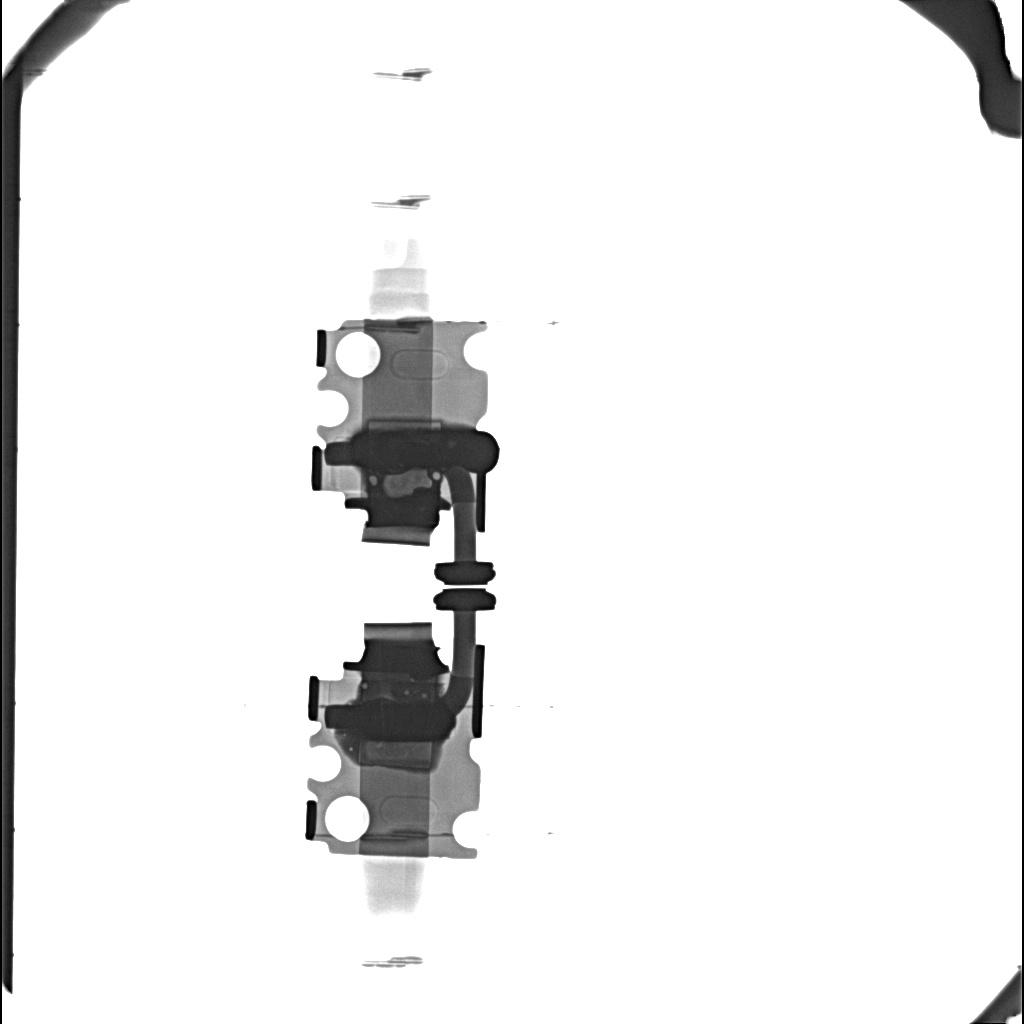PX: (357, 740, 434, 770), (366, 419, 443, 429)
QP: (383, 469, 433, 497), (369, 476, 377, 485), (432, 472, 440, 481), (363, 682, 368, 690)
SX: (352, 430, 496, 470), (352, 701, 457, 741)
